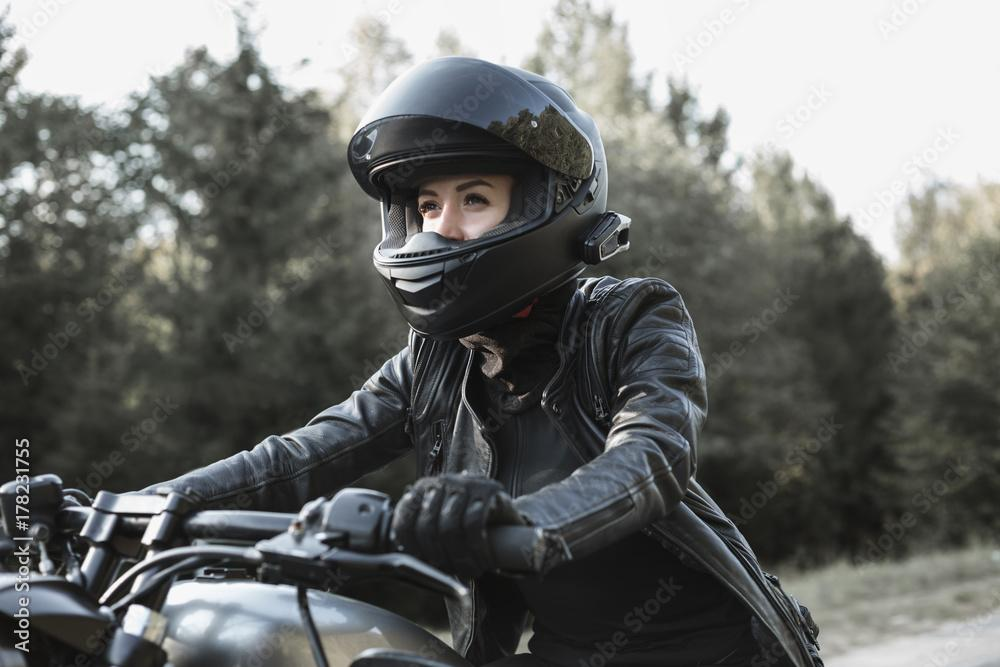helmet: (345, 54, 633, 343)
